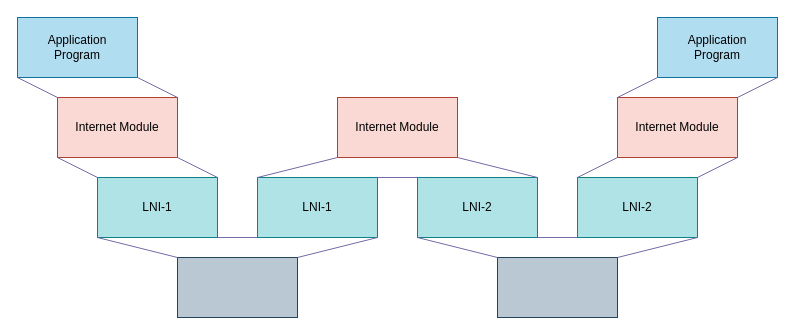
This 796x335 diagram has some shape labels left out. Each missing label, with the centre of its shape:
"Local Network 1" belongs at [237,287].
"Local Network 2" belongs at [557,287].
